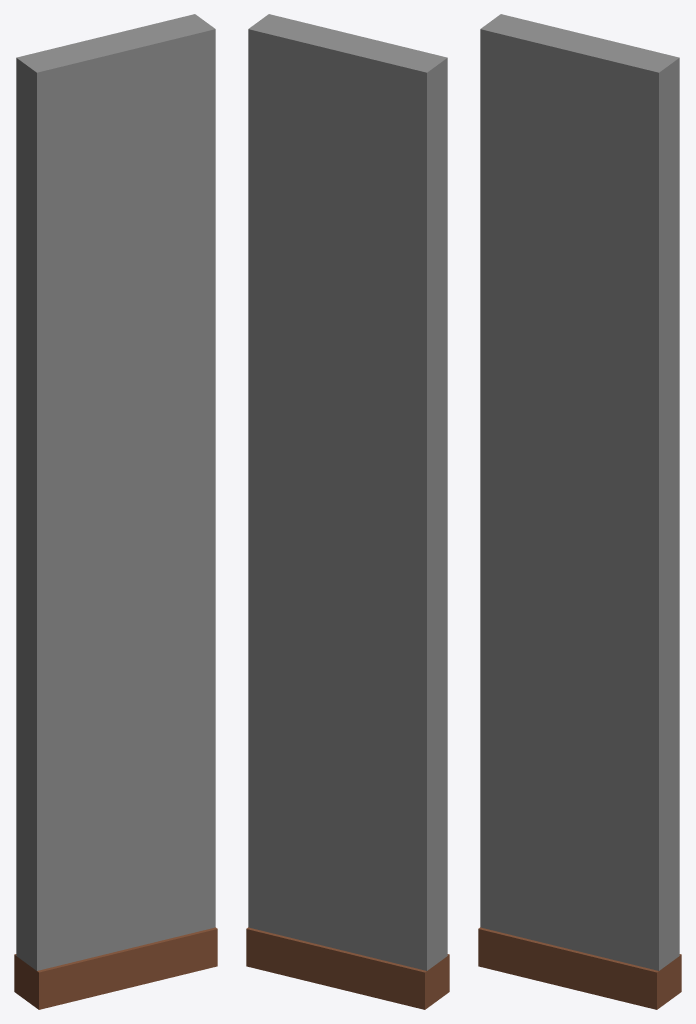
File: Mur01_t1.FBX
3 views of the same model, side by side, from view 1: azimuth 30°, elevation 25°; view 2: azimuth 150°, elevation 25°; view 3: azimuth 330°, elevation 25° (orthographic).
Visible parts, largest first — view 1: mur 100; view 2: mur 100; view 3: mur 100.
Boxes of the visible parts, x1,y1,x2,y2 form: mur 100: (14,14,217,1009); mur 100: (246,14,449,1009); mur 100: (478,14,681,1009).
Bounding box in the file's own units: 50 × 250 × 12.
